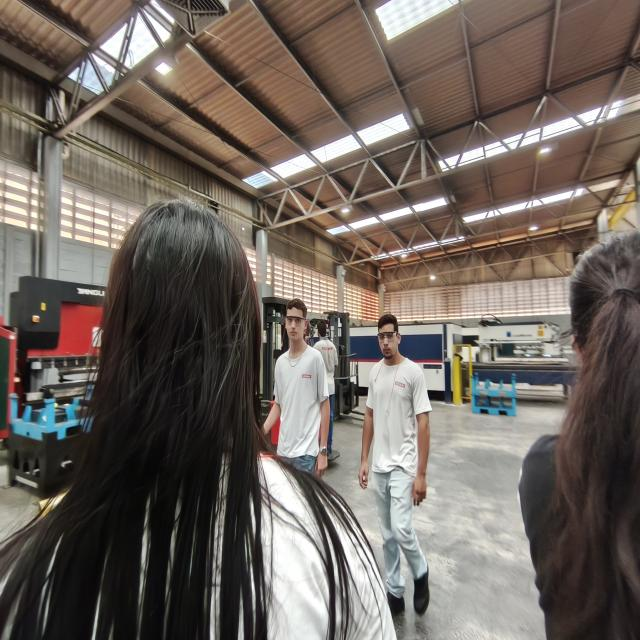oculos-epi: (378, 332, 398, 342), (286, 317, 305, 326)
sem_oculos: (567, 310, 594, 365)
